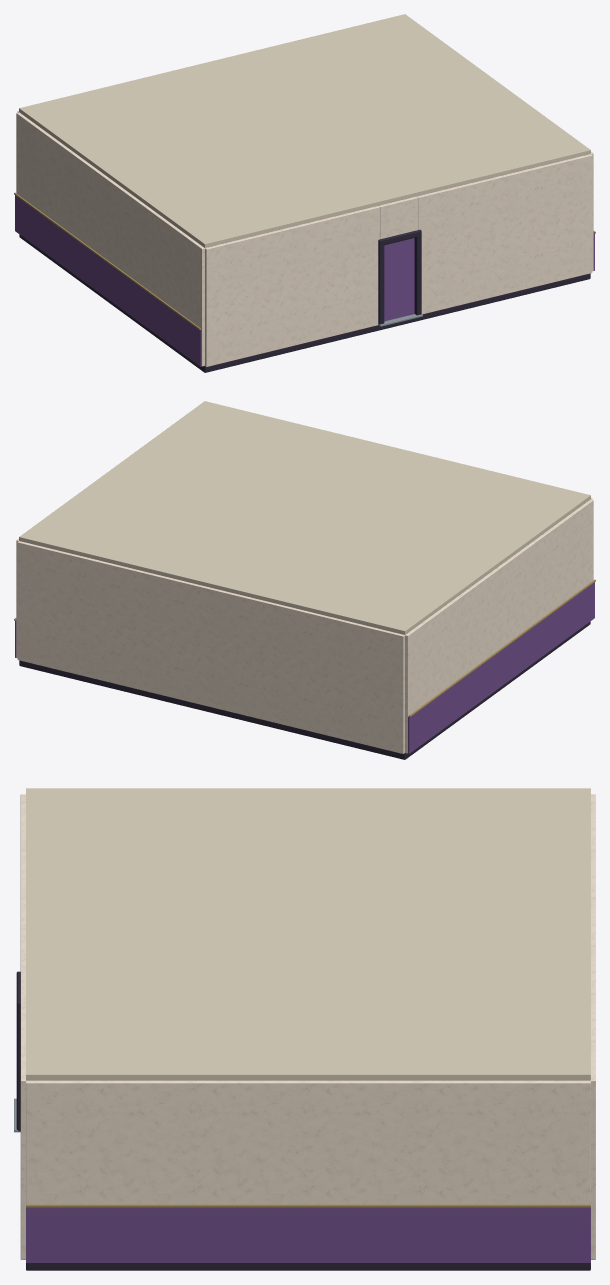
Rendered from hotel_multiuse.glb.
3 views of the same model, one above another, from view 1: azimuth 30°, elevation 25°; view 2: azimuth 150°, elevation 25°; view 3: azimuth 270°, elevation 25° (orthographic). The views are drawn at different scales.
Parts seen in each view (by area): view 1: ceiling.005, wall.012, wall.011, wall.014, lower_panel.013, hotel_multiuse_floor, front.015_leaf, door_lintel.002, front.015_jamb, panel_rail.013, front.015_jamb.001; view 2: ceiling.005, wall.013, wall.014, lower_panel.013, hotel_multiuse_floor, panel_rail.013; view 3: ceiling.005, wall.015, lower_panel.014, hotel_multiuse_floor, wall.013, panel_rail.014, wall.011, wall.012.
Part boxes in pixels (<box>): ceiling.005: <box>19,14,590,247</box>; wall.012: <box>205,206,380,366</box>; wall.011: <box>417,154,592,314</box>; wall.014: <box>16,112,204,366</box>; lower_panel.013: <box>15,195,201,366</box>; hotel_multiuse_floor: <box>19,234,590,372</box>; front.015_leaf: <box>384,238,414,321</box>; door_lintel.002: <box>379,196,418,239</box>; front.015_jamb: <box>414,235,421,315</box>; panel_rail.013: <box>14,192,200,329</box>; front.015_jamb.001: <box>378,243,384,324</box>; ceiling.005: <box>19,401,590,634</box>; wall.013: <box>17,541,404,753</box>; wall.014: <box>405,499,593,753</box>; lower_panel.013: <box>408,582,594,753</box>; hotel_multiuse_floor: <box>19,621,590,759</box>; panel_rail.013: <box>409,579,595,716</box>; ceiling.005: <box>26,788,590,1080</box>; wall.015: <box>26,1080,590,1204</box>; lower_panel.014: <box>26,1207,590,1262</box>; hotel_multiuse_floor: <box>26,1263,590,1270</box>; wall.013: <box>591,794,595,1259</box>; panel_rail.014: <box>26,1204,590,1207</box>; wall.011: <box>20,951,25,1259</box>; wall.012: <box>20,794,25,923</box>.
Bounding box in the file's own units: 12.32 × 3.84 × 10.3.
Materials: 12 (3 with a texture image).
